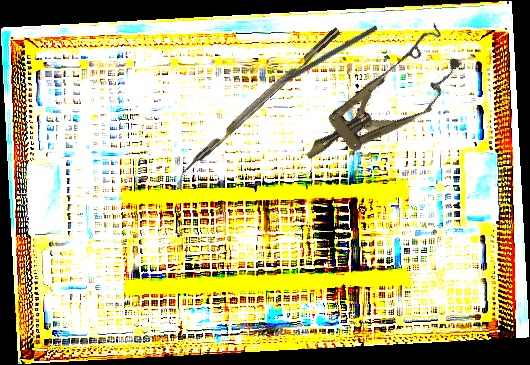Chopper: (168, 26, 349, 192)
Hook Surgical: (265, 23, 379, 94)
Speculum: (287, 21, 475, 186)
